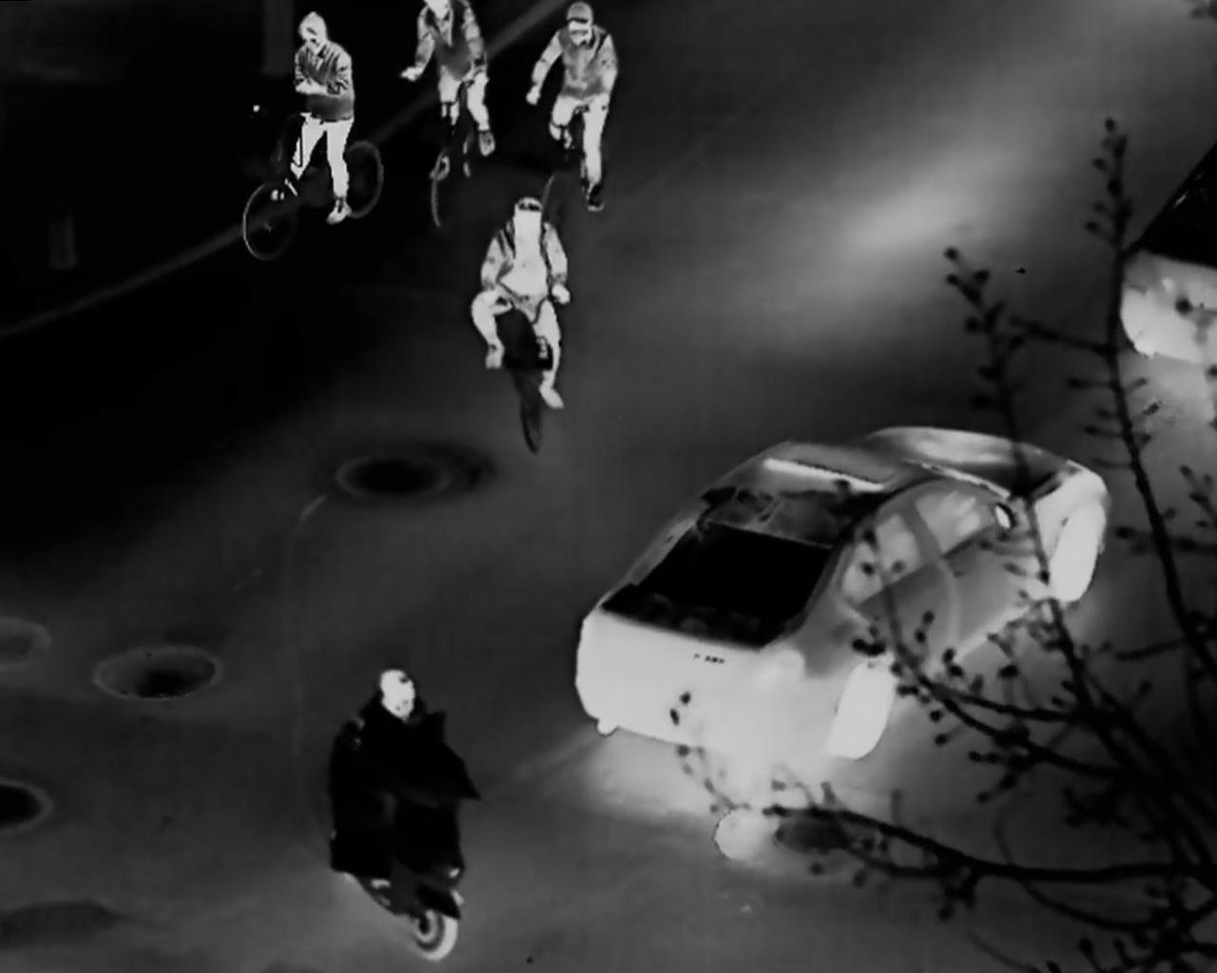person: (344, 666, 437, 890), (484, 190, 569, 411), (280, 17, 357, 229)
